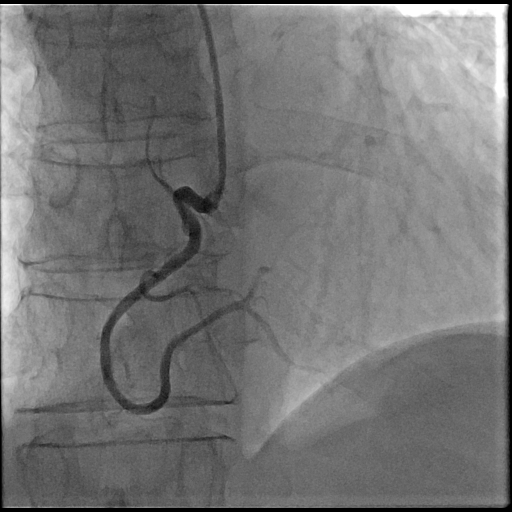RCA: (100, 186, 240, 414)
catherter: (198, 5, 226, 206)
